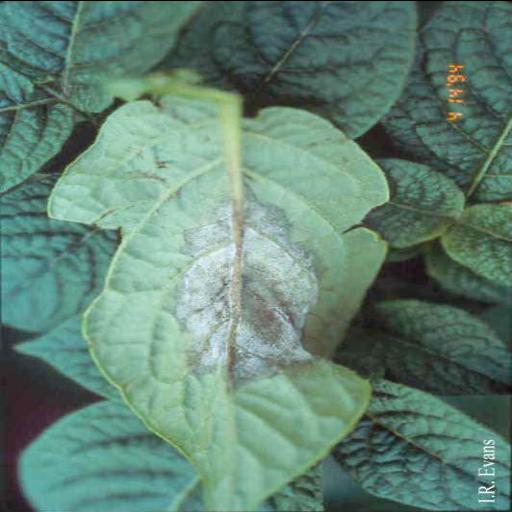disease_tomato: (41, 85, 389, 507)
